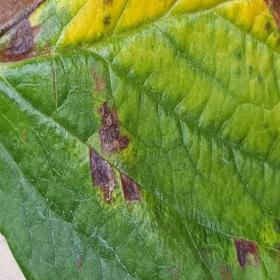Angular Leafspot: (254, 0, 279, 50)
